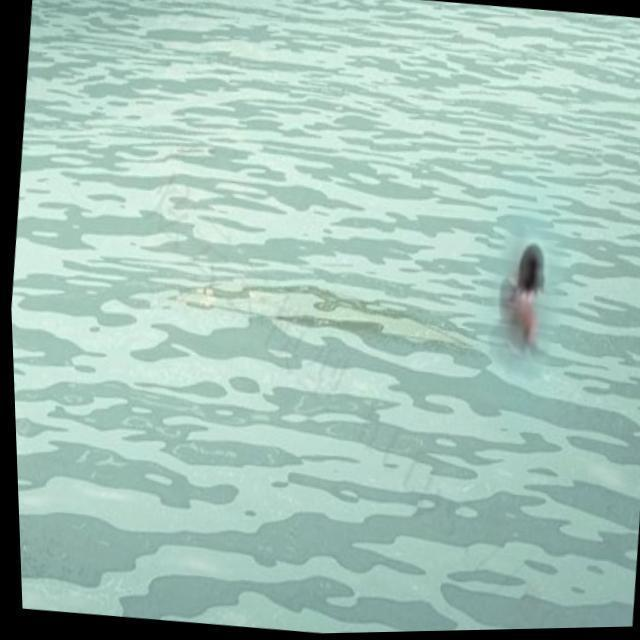swimming: (447, 206, 580, 381)
